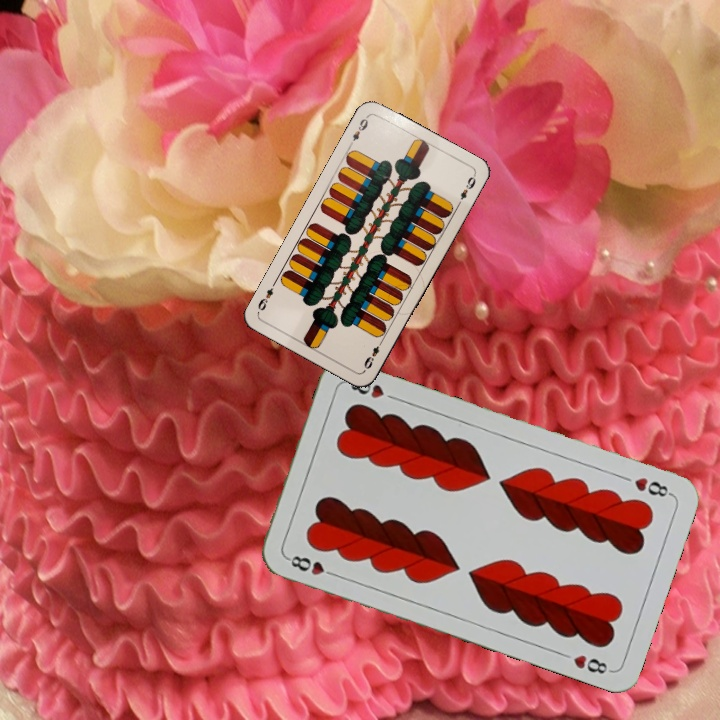E9: (359, 336, 385, 373), (345, 112, 371, 149)
H8: (283, 551, 340, 580), (630, 473, 675, 500)
